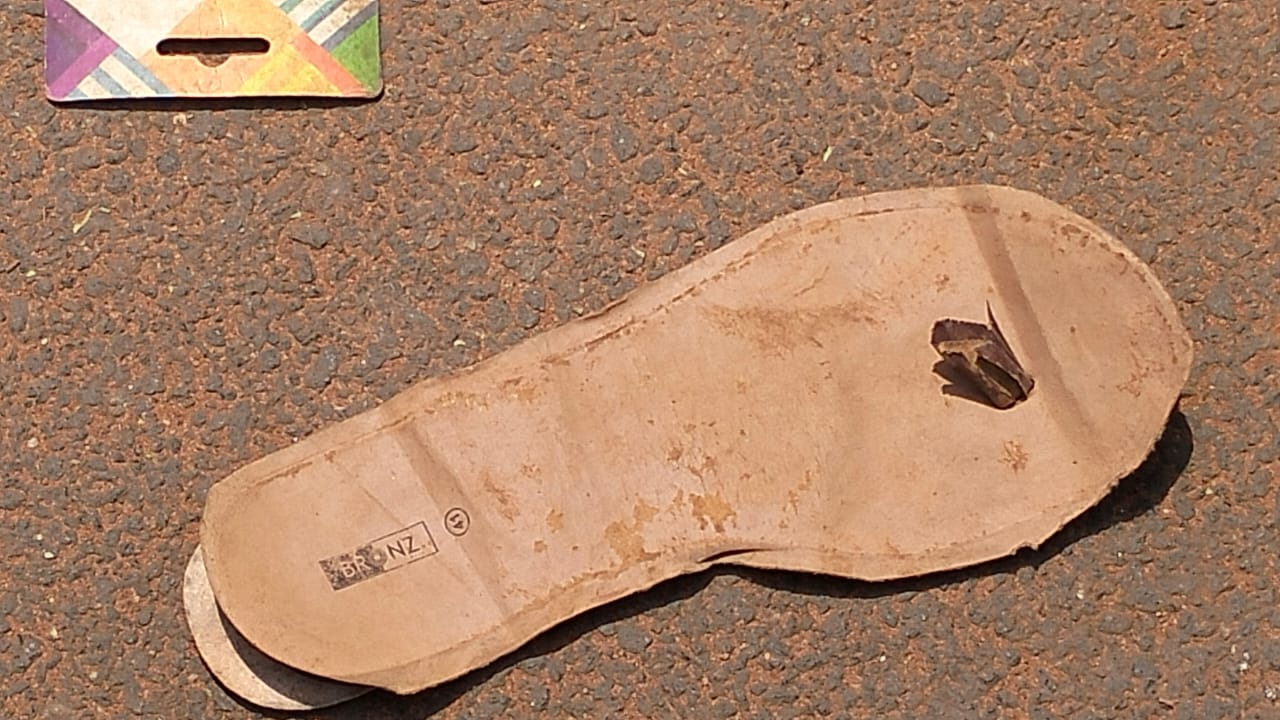footwear: (168, 120, 1192, 692)
